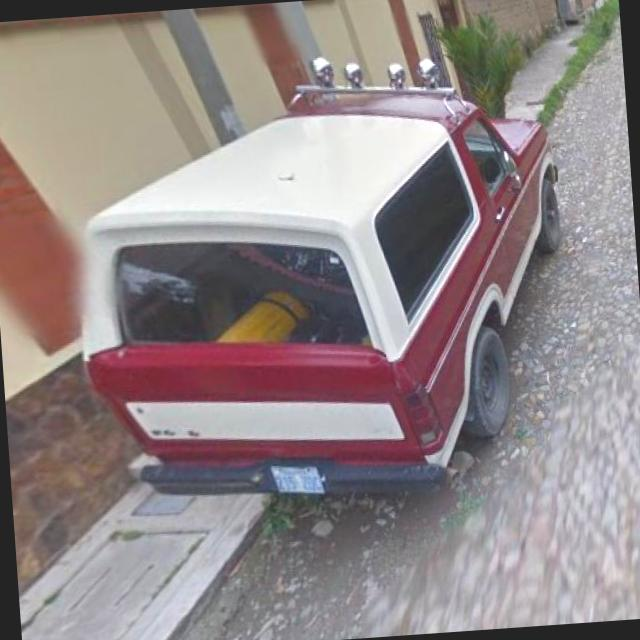car: (70, 58, 570, 520)
